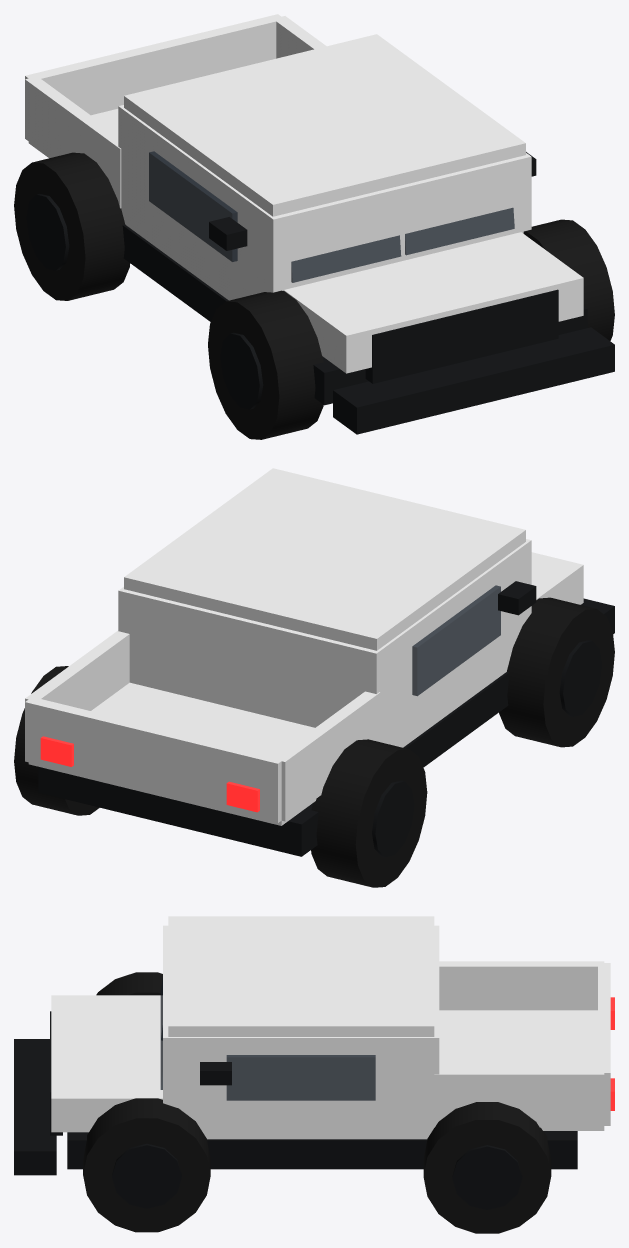
Rendered from bummer-war-hippo.glb.
3 views of the same model, one above another, from view 1: azimuth 30°, elevation 25°; view 2: azimuth 150°, elevation 25°; view 3: azimuth 270°, elevation 25° (orthographic). The views are drawn at different scales.
Parts seen in each view (by area): view 1: chassis, wheel-front-left, wheel-back-left, glass (×2), wheel-front-right; view 2: chassis, wheel-back-left, wheel-front-left, wheel-back-right; view 3: chassis, wheel-front-right, wheel-back-right, wheel-front-left.
Part boxes in pixels (x1,y1,x2,y2): chassis: (25,14,614,434); wheel-front-left: (208,290,323,439); wheel-back-left: (14,152,130,300); glass (×2): (291,207,514,282); wheel-front-right: (523,219,614,340); chassis: (25,468,614,856); wheel-back-left: (311,739,427,887); wheel-front-left: (499,597,614,747); wheel-back-right: (14,666,99,815); chassis: (14,916,614,1175); wheel-front-right: (83,1098,210,1232); wheel-back-right: (423,1102,551,1233); wheel-front-left: (96,972,162,995).
Bounding box in the file's own units: 3.38 × 1.95 × 5.65.
